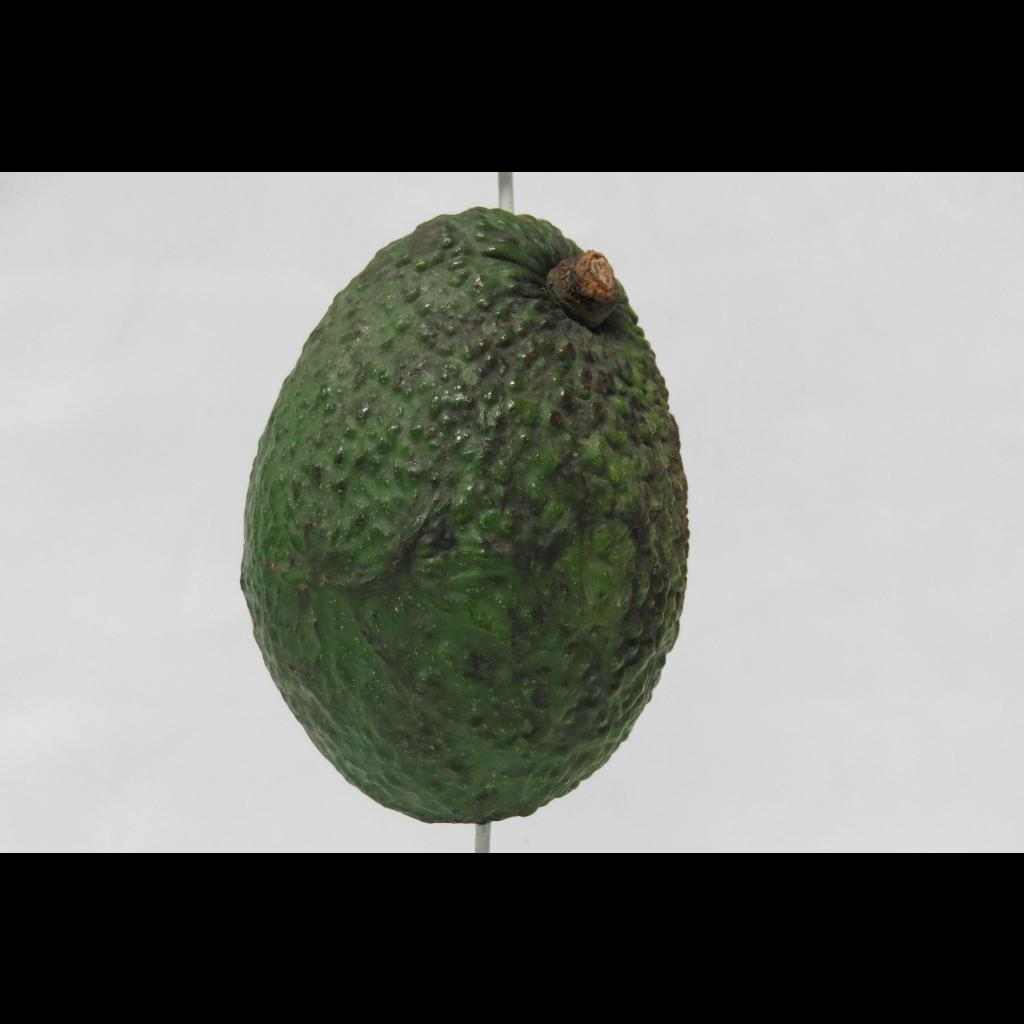Healthy: (236, 188, 710, 836)
